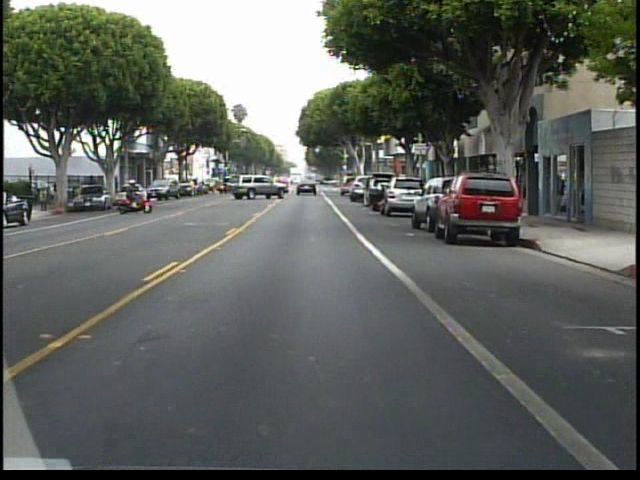person: (126, 179, 148, 212), (85, 172, 102, 206)
